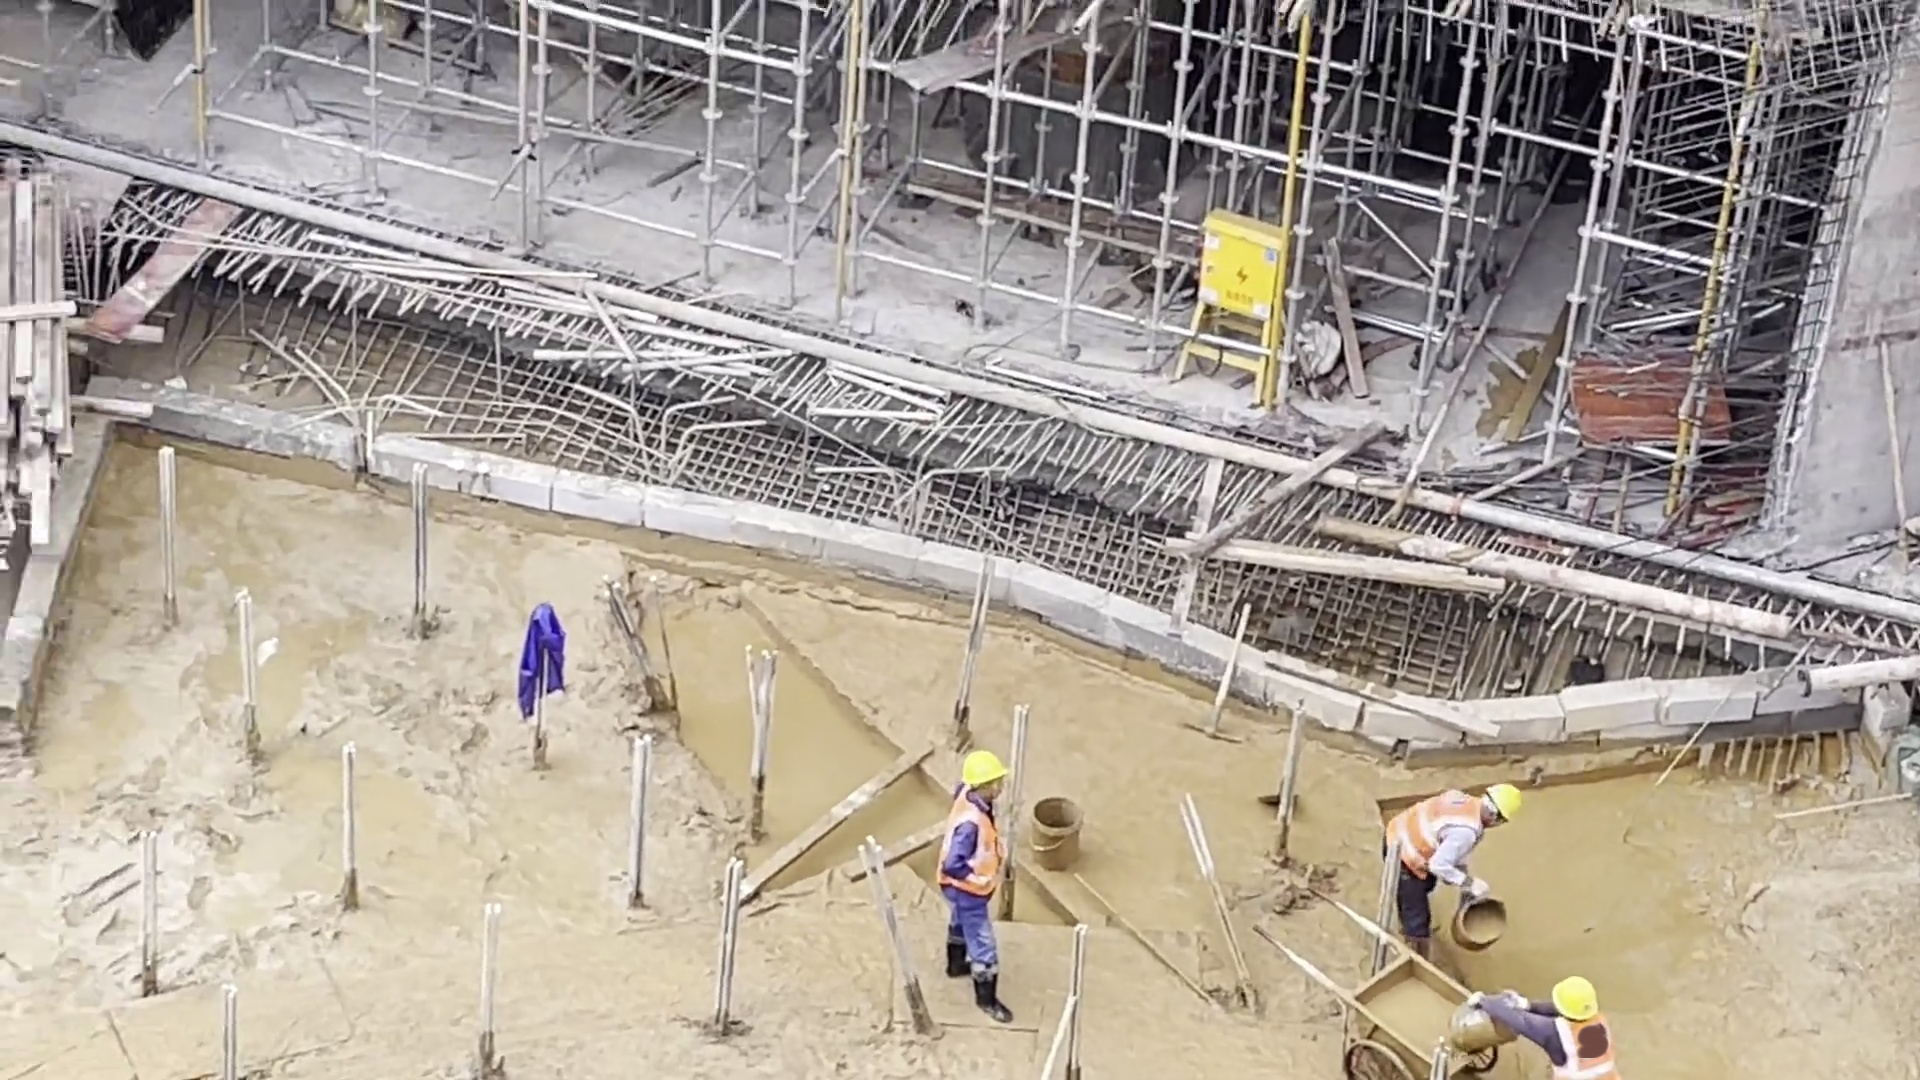ebox: (1173, 206, 1292, 417)
handcart: (1257, 886, 1499, 1080)
helmet: (1553, 974, 1600, 1022), (959, 750, 1007, 785), (1489, 785, 1525, 827)
person: (1384, 785, 1529, 945), (938, 745, 1015, 1028), (1468, 968, 1621, 1080)
vest: (1386, 792, 1489, 879), (940, 784, 1009, 898), (1546, 1014, 1617, 1080)
wood: (1, 174, 66, 550)
